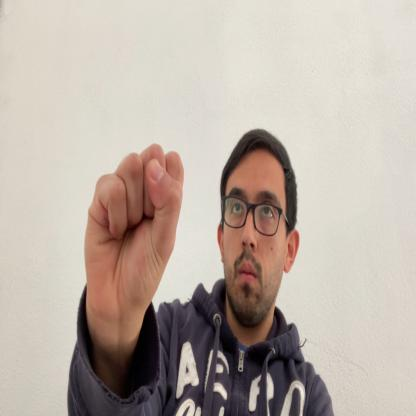S: (84, 143, 185, 325)
